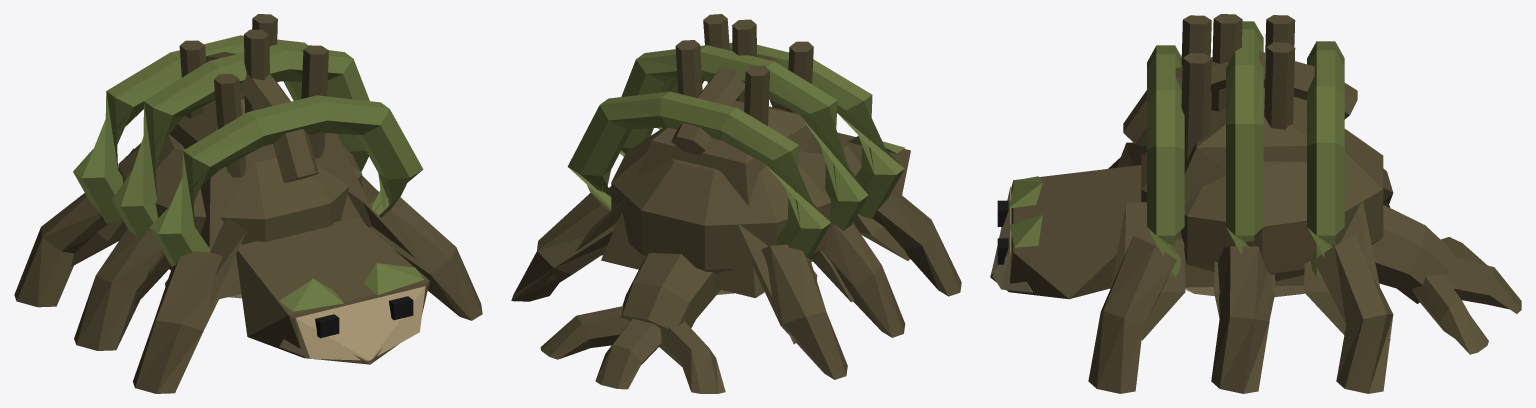
File: rhizocairn.glb
3 renders of one model, left to right at view 1: azimuth 30°, elevation 25°; view 2: azimuth 150°, elevation 25°; view 3: azimuth 270°, elevation 25°, orthographic. The views are drawn at different scales.
Visible parts, largest first — view 1: Rhizocairn; view 2: Rhizocairn; view 3: Rhizocairn.
Boxes of the visible parts, x1=… form: Rhizocairn: x1=14, y1=14, x2=482, y2=393; Rhizocairn: x1=511, y1=14, x2=961, y2=393; Rhizocairn: x1=990, y1=14, x2=1521, y2=393.
Size of the model in its own units: 1.85 by 1.4 by 2.35.
